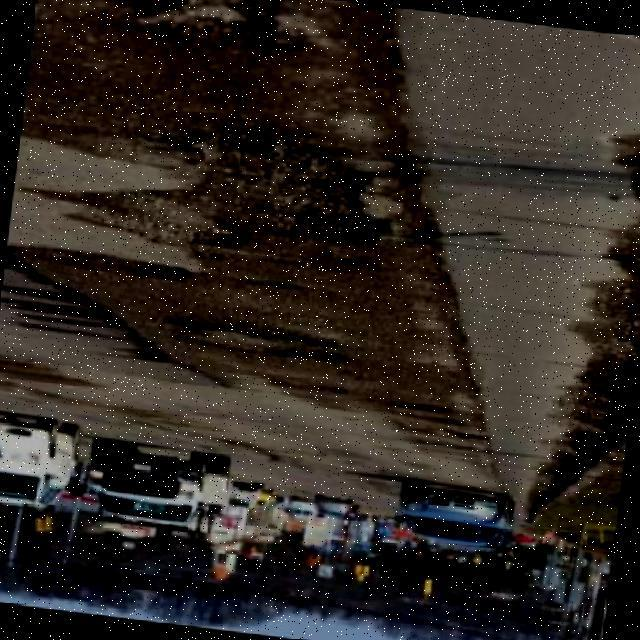Pothole: (155, 129, 393, 246), (9, 242, 190, 280), (138, 0, 279, 47)
